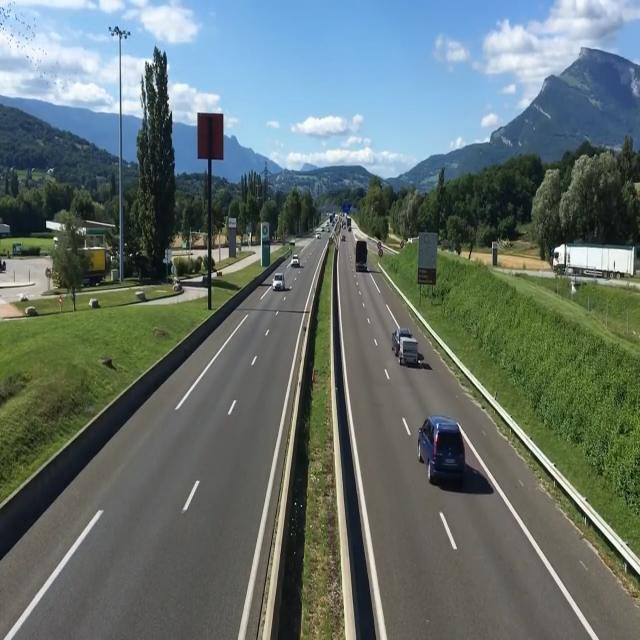car: (425, 415, 468, 495), (392, 324, 424, 373), (271, 273, 286, 297), (291, 252, 302, 270)
truck: (354, 235, 370, 281)
